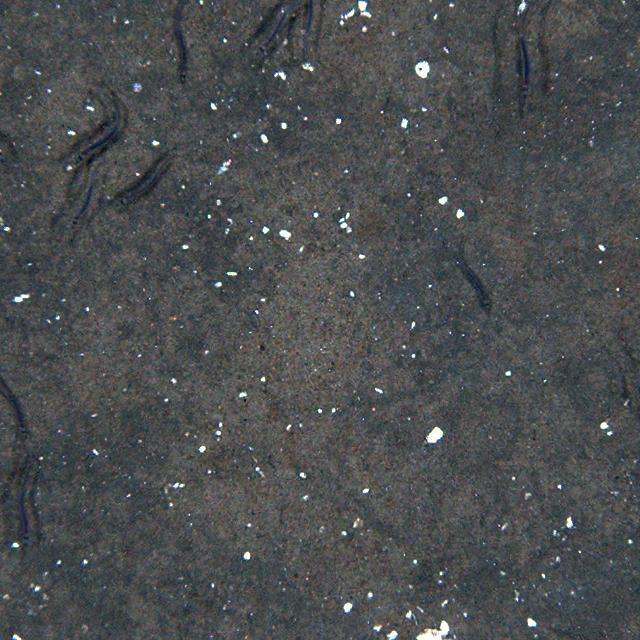roundfish: (60, 90, 130, 170), (456, 240, 497, 324), (512, 35, 533, 122)
